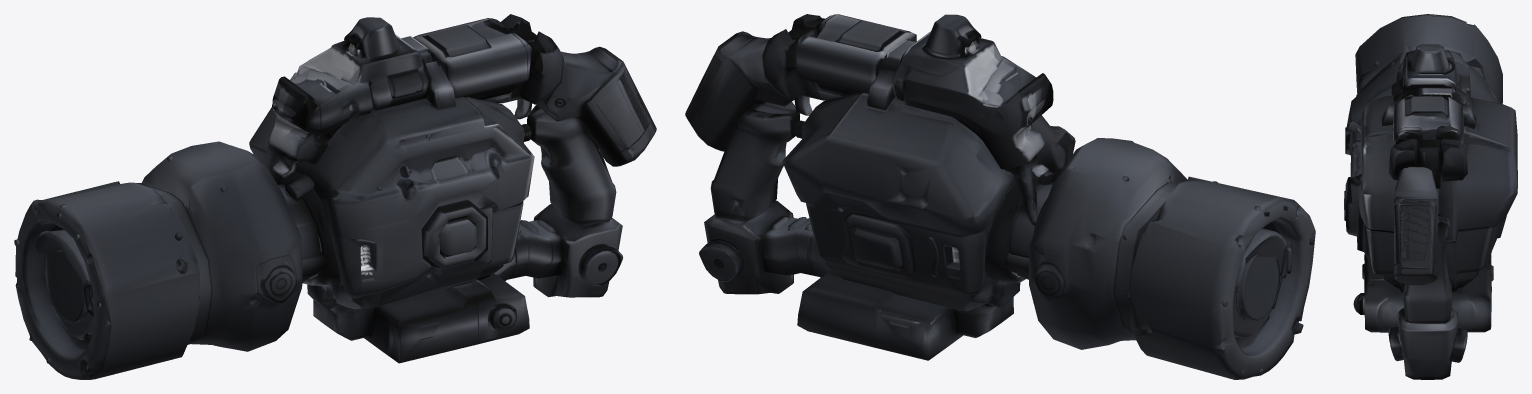
The model's file is tripo_convert_12514012-6f9a-48c4-8068-dee3ff097445.fbx.
The picture shows the model from 3 angles, left to right: view 1: azimuth 30°, elevation 25°; view 2: azimuth 150°, elevation 25°; view 3: azimuth 270°, elevation 25°; orthographic projection. The views are drawn at different scales.
Visible parts, largest first — view 1: tripo_node_12514012; view 2: tripo_node_12514012; view 3: tripo_node_12514012.
Part boxes in pixels (box(x1,y1,x2,y2)): tripo_node_12514012: box(14, 14, 656, 379); tripo_node_12514012: box(685, 14, 1315, 379); tripo_node_12514012: box(1344, 14, 1517, 379).
Size of the model in its own units: 0.9995 by 0.5151 by 0.3286.
1 material, 1 textured.
